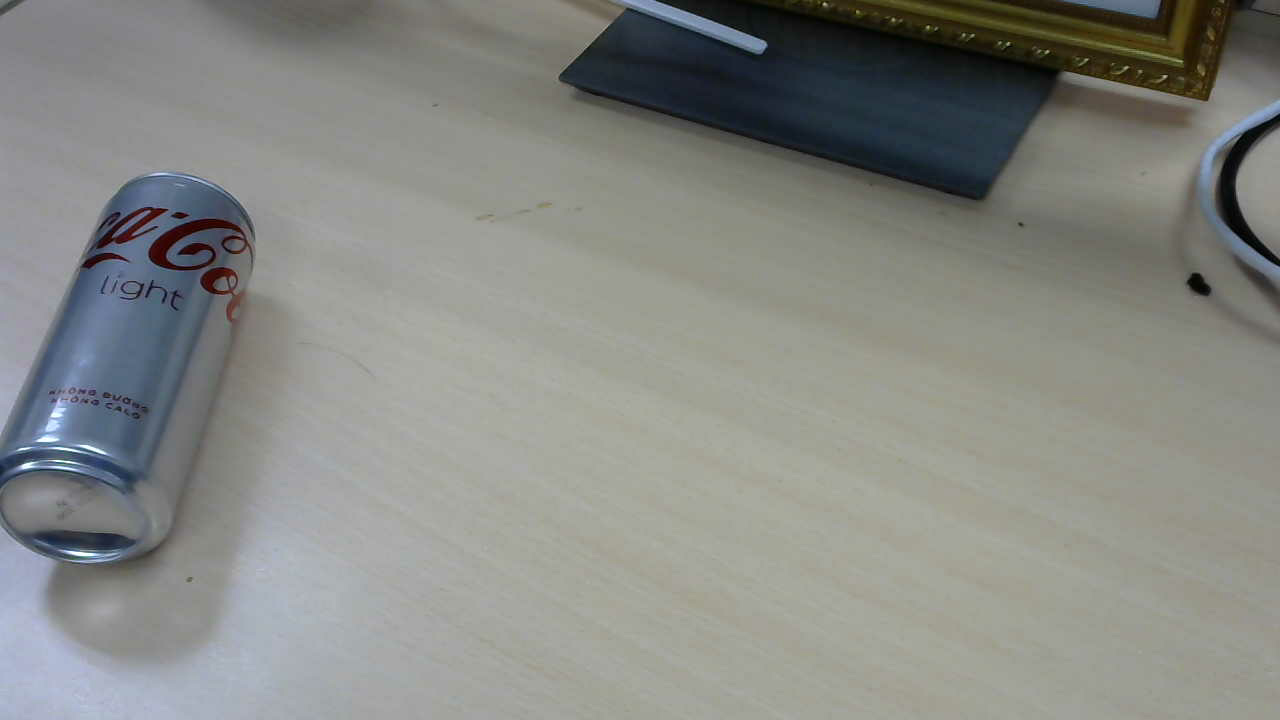Coca_Cola: (7, 177, 265, 571)
